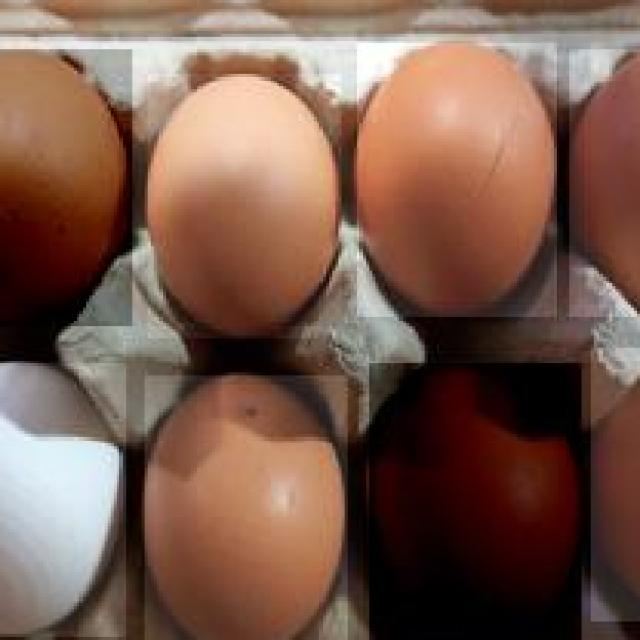egg: (366, 360, 582, 640), (354, 38, 556, 315), (142, 369, 348, 640), (144, 71, 342, 338), (0, 46, 133, 326), (0, 360, 126, 637), (566, 46, 640, 317), (588, 341, 640, 618)
